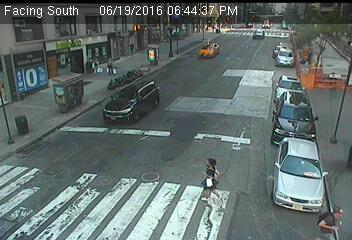neg: (44, 97, 71, 132), (21, 80, 42, 107), (50, 43, 65, 63), (198, 28, 213, 48), (164, 30, 177, 46), (215, 24, 227, 39)
pos: (189, 154, 228, 206), (317, 201, 345, 239), (89, 57, 106, 80), (104, 58, 117, 75)
